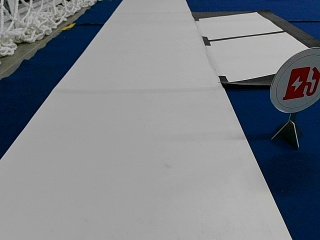battery: (270, 47, 320, 114)
